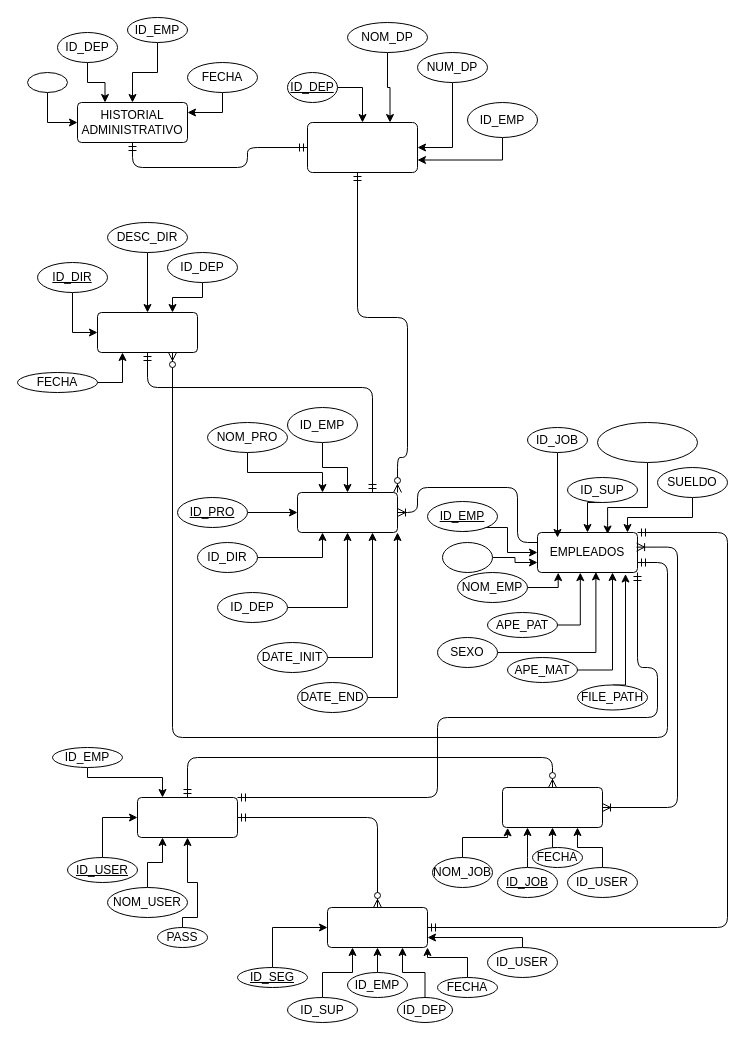
This 754x1040 diagram has some shape labels left out. Here are the shapes that lost their labels. From the top down, the centre of each, then its label:
(47,82): ID
(362,147): DEPARTAMENTOS
(147,332): DIRECCIONES
(647,442): ID_DIRECCION
(347,512): PROYECTOS
(467,557): BORN
(187,817): USUARIOS
(552,807): PUESTOS
(377,927): SEGUROS
